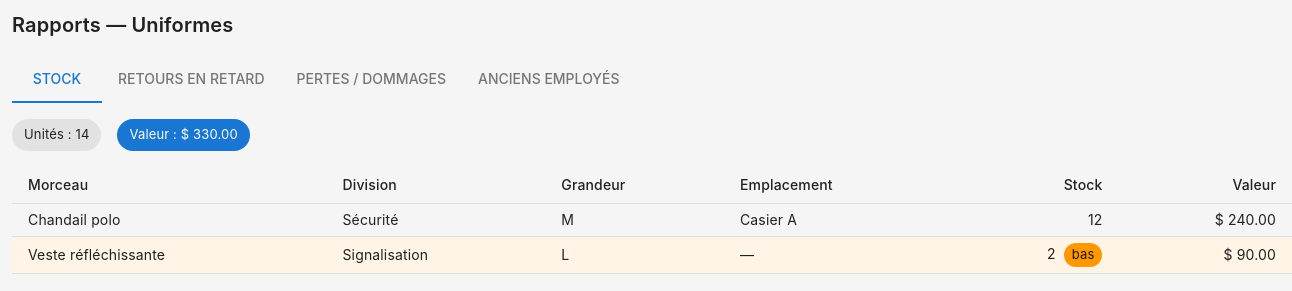
it: UniformReportsPage › bascule sur l'onglet « Retours en retard » et charge ses données
The image size is (1292, 291).
Check: the text "Chandail polo" is shown, box [12, 203, 326, 236]
Click the tab "Retours en retard": (191,79) [102, 55, 280, 103]
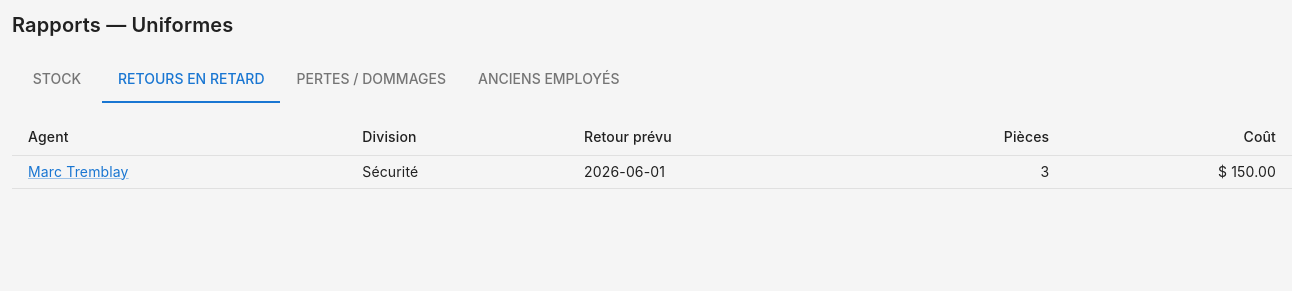
Check: the link "Marc Tremblay" is shown, box [28, 163, 129, 180]
